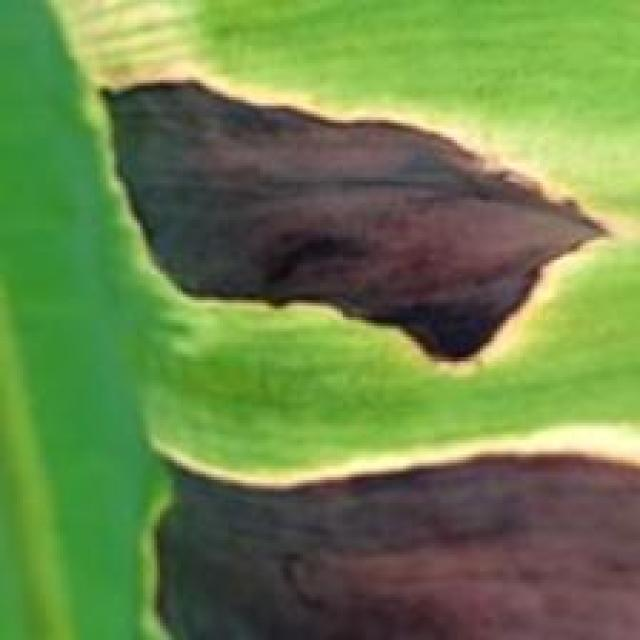Bacterial_spot: (90, 75, 620, 368), (128, 427, 640, 640)
